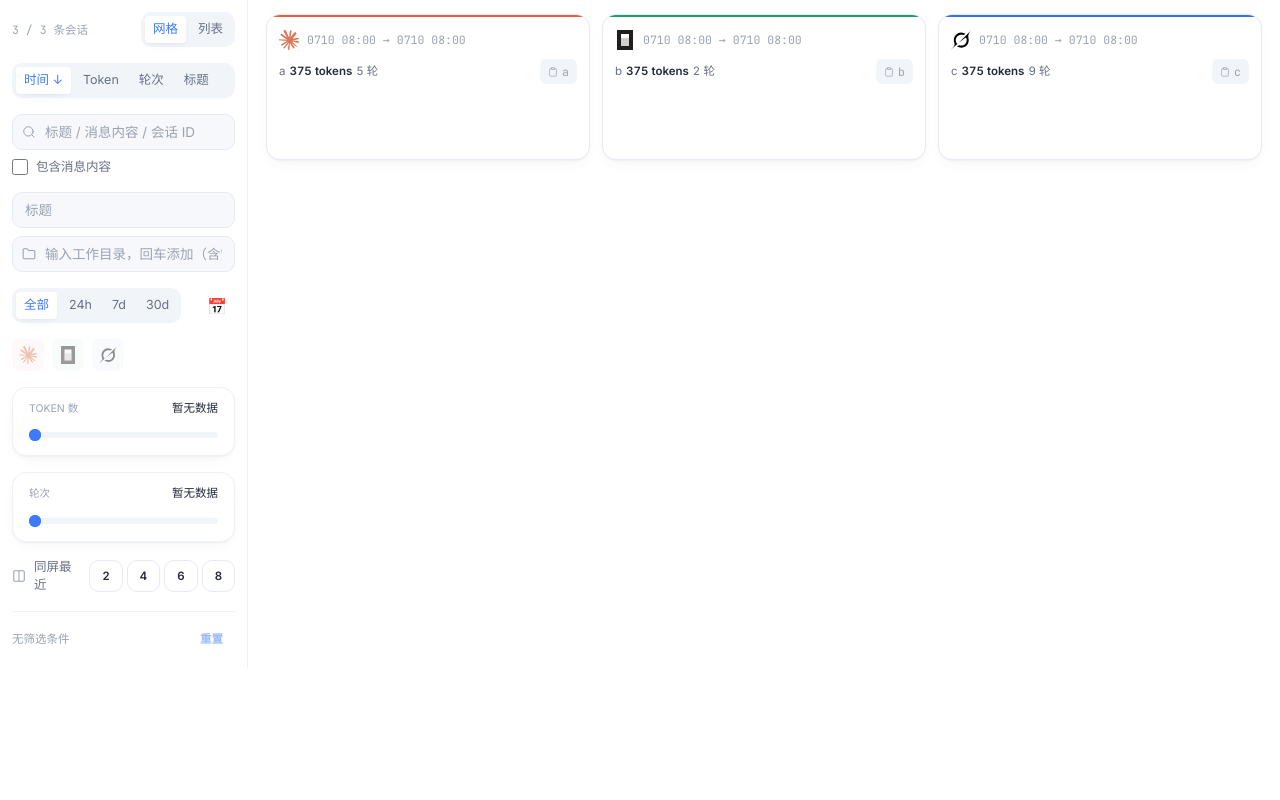
Test: SessionLibrary (t227) › 内容搜索失败时清空上一关键词结果并提示错误
Click the checkbox labelled "包含消息内容": (20,167) [12,159,28,175]
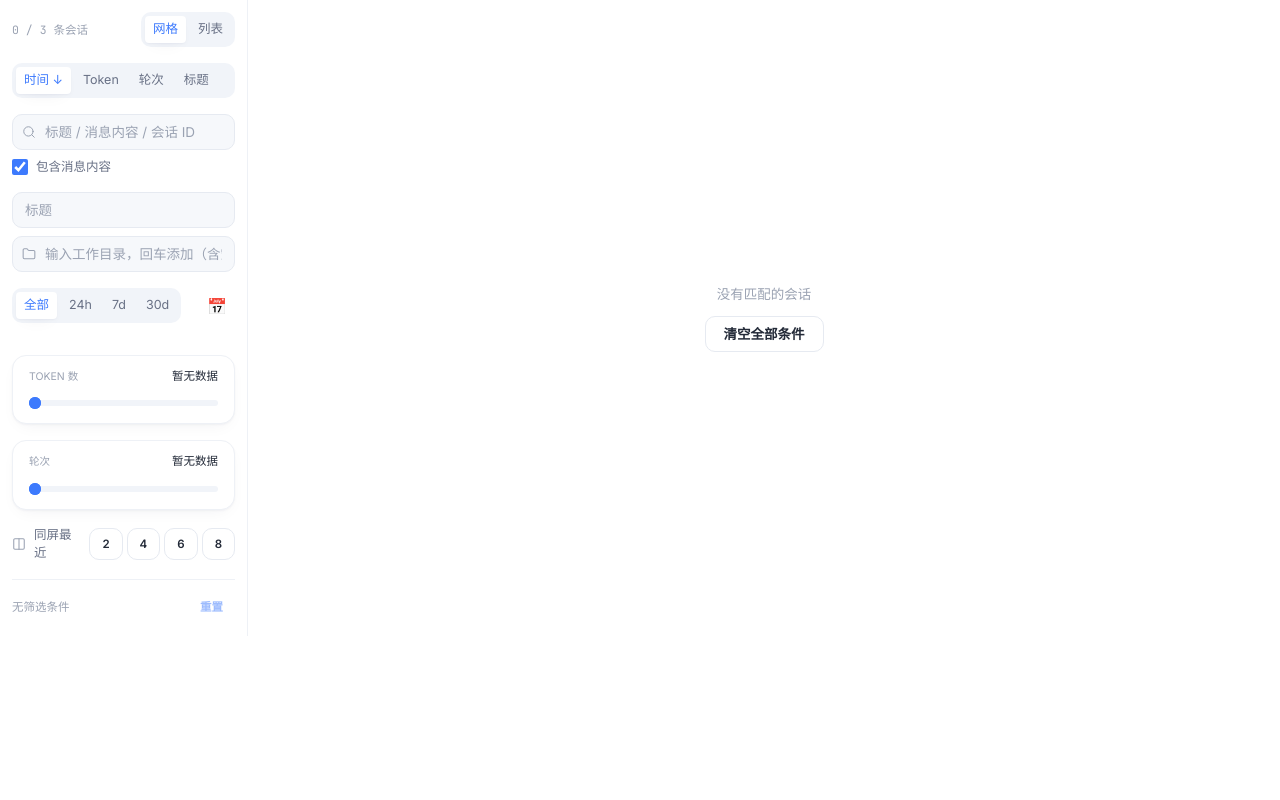
In the field with placeholder "标题 / 消息内容 / 会话 ID": (124,132) [12,114,235,150], type "旧关键词"
Wait 400 ms
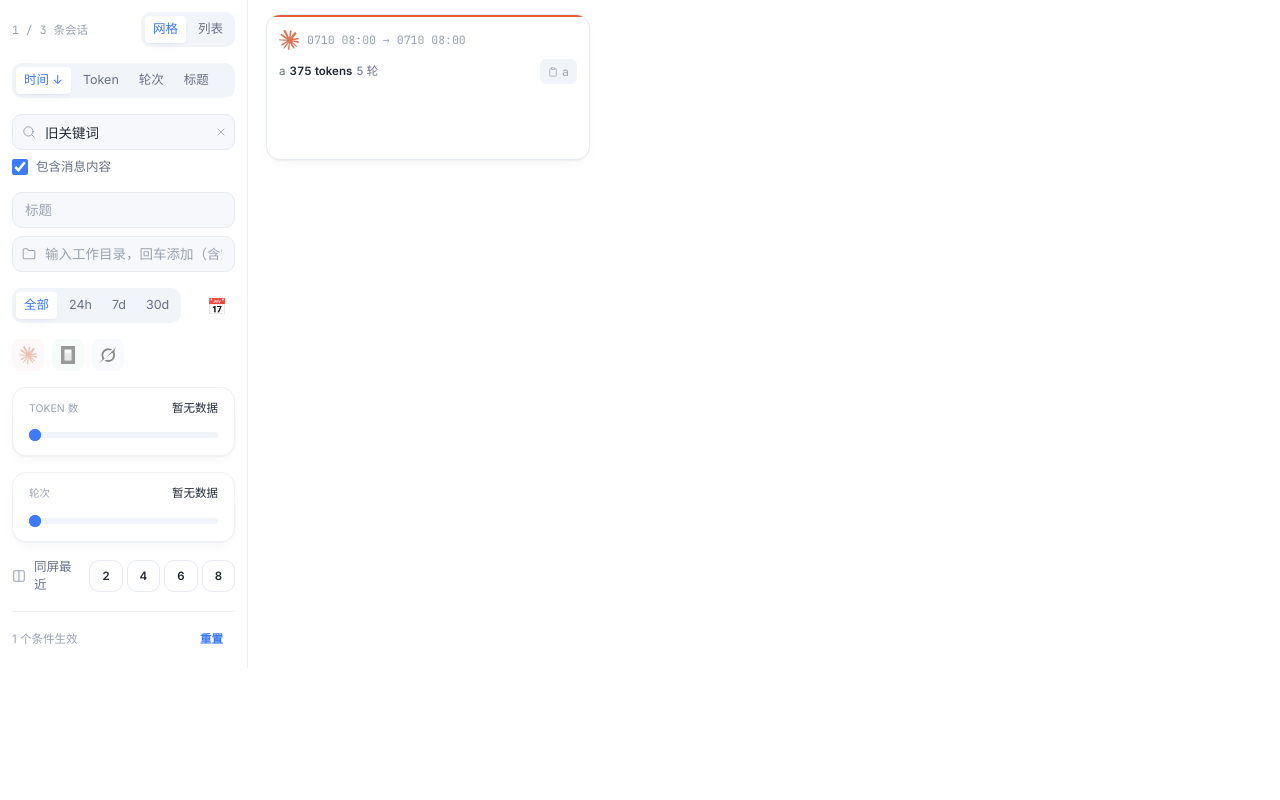
Replace the text in the field with placeholder "标题 / 消息内容 / 会话 ID" with "新关键词": (124,132) [12,114,235,150]
Wait 400 ms
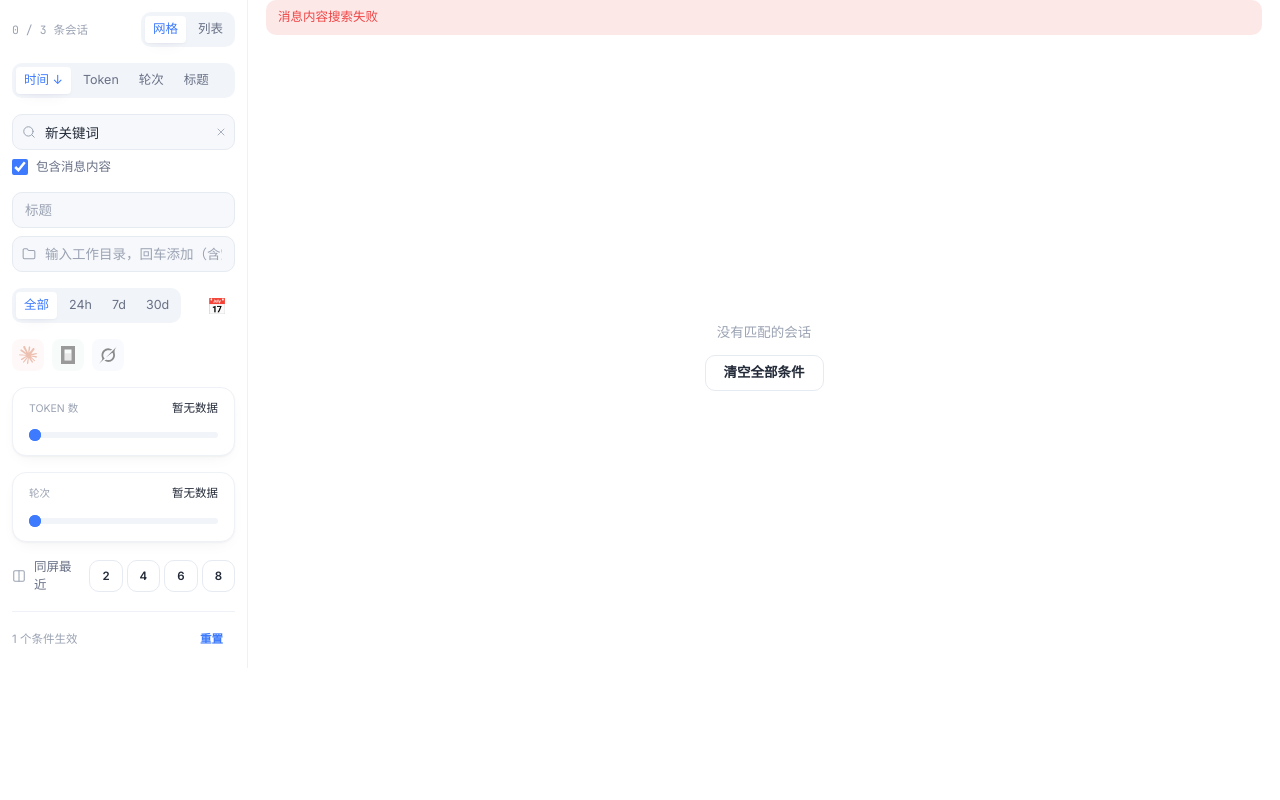
Expected: the text "消息内容搜索失败" is shown, [266,0,1262,35]
